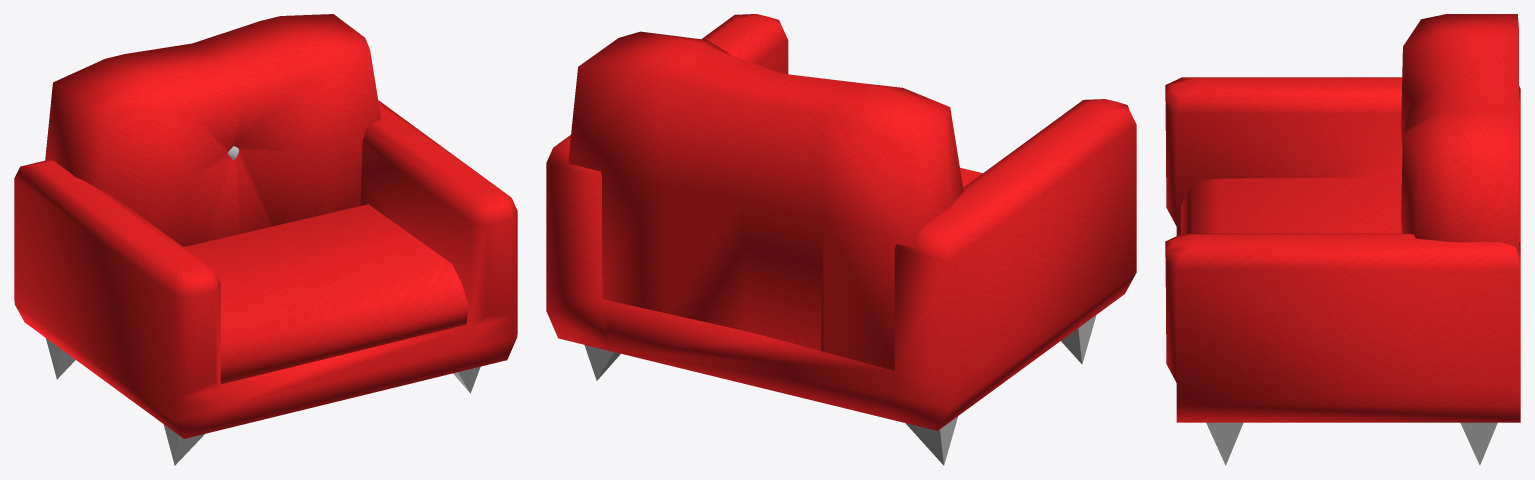
The model's file is Chair_B_3.FBX.
The picture shows the model from 3 angles, left to right: view 1: azimuth 30°, elevation 25°; view 2: azimuth 150°, elevation 25°; view 3: azimuth 270°, elevation 25°; orthographic projection. The views are drawn at different scales.
Visible parts, largest first — view 1: Chair; view 2: Chair; view 3: Chair.
Boxes of the visible parts, x1=… form: Chair: x1=14, y1=14, x2=517, y2=465; Chair: x1=546, y1=14, x2=1136, y2=465; Chair: x1=1165, y1=14, x2=1520, y2=465.
Bounding box in the file's own units: 204 × 167 × 169.
